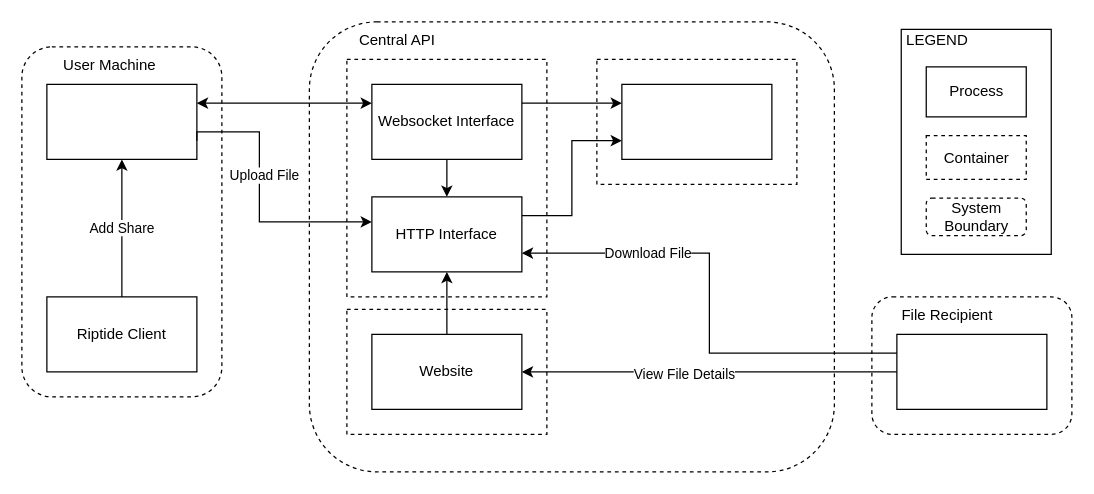
The diagram is 1094 pixels wide and 494 high, and some of its shapes have lost their labels. The centre of each missing label's shape, as x and y in pixels:
"Database" belongs at point 696,121.
"Server Agent" belongs at point 121,121.
"Web Browser" belongs at point 971,371.
